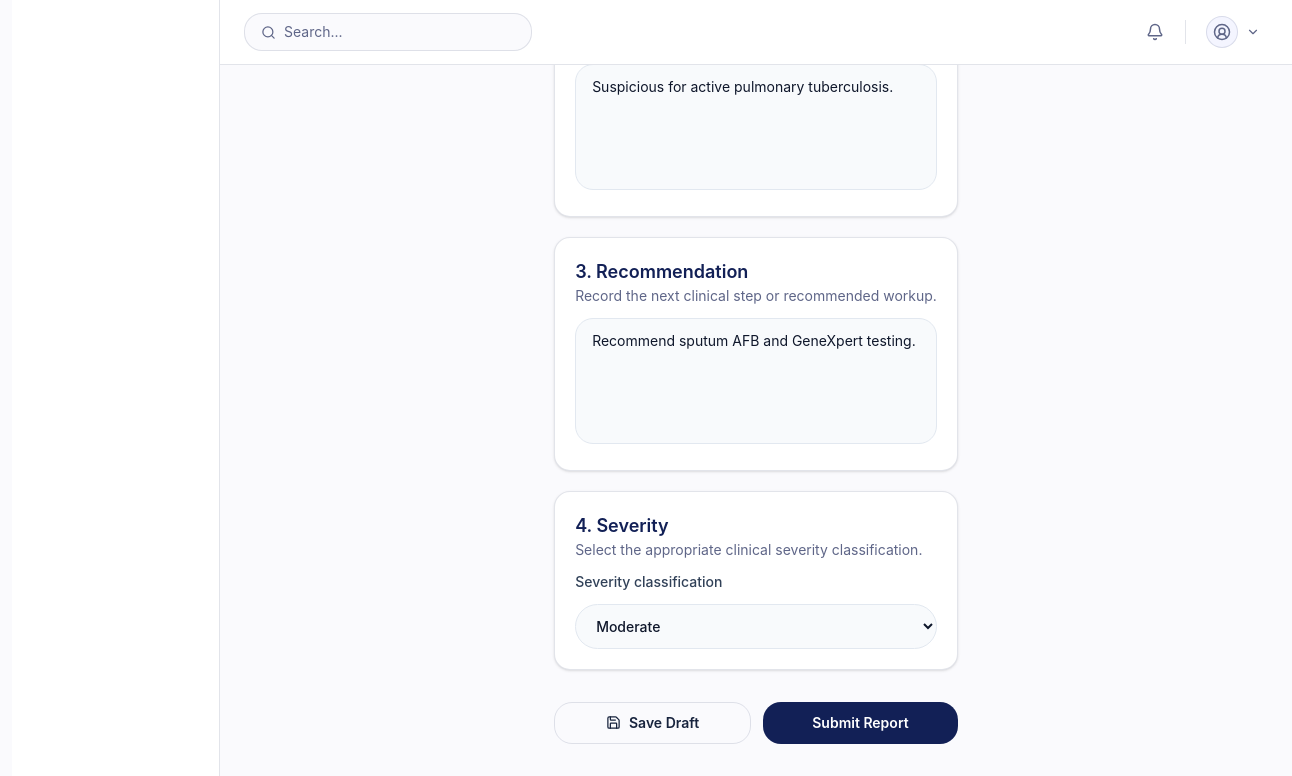
it: ReportWritePage › saves a draft via PATCH when a report already exists, with CSRF header
(page scrolled)
Click the button "Save Draft": (653, 722) x1=554 y1=702 x2=751 y2=744
(page scrolled)
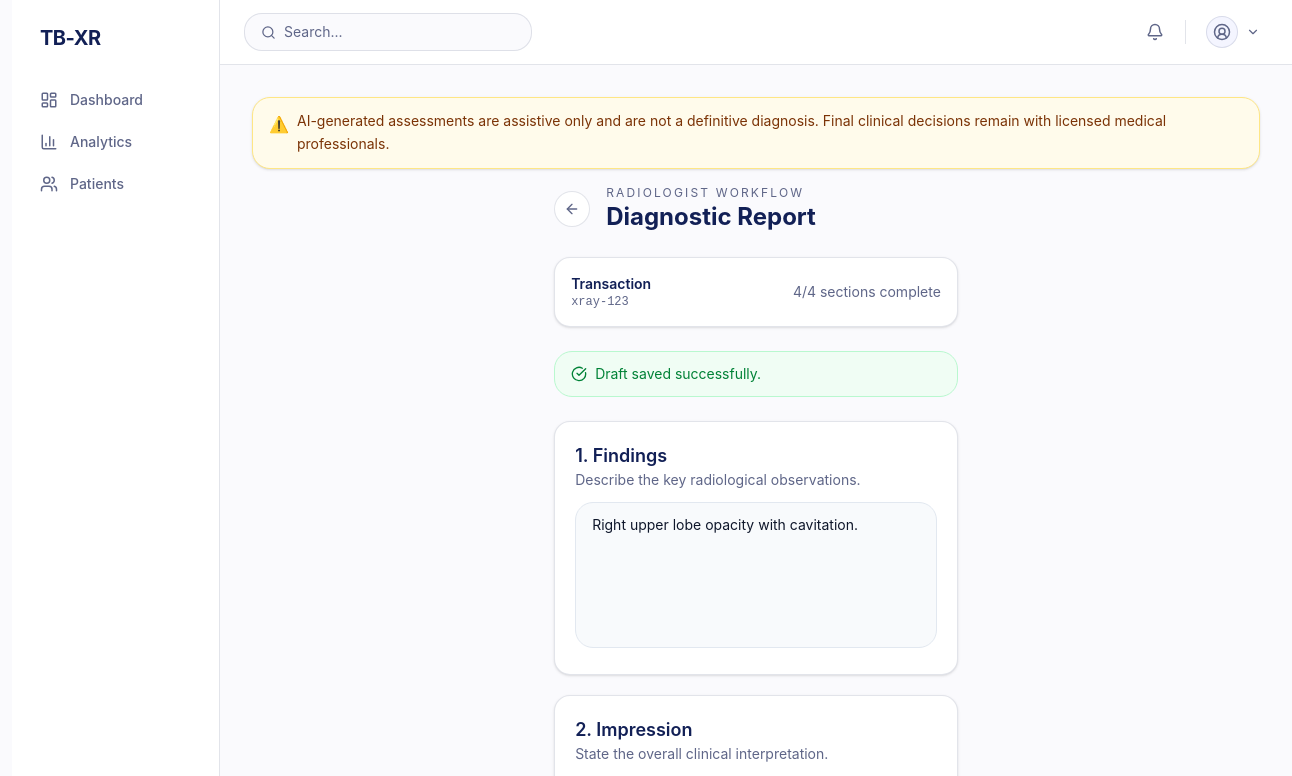
Now the text "Draft saved successfully." is shown, box x1=595 y1=364 x2=761 y2=384
